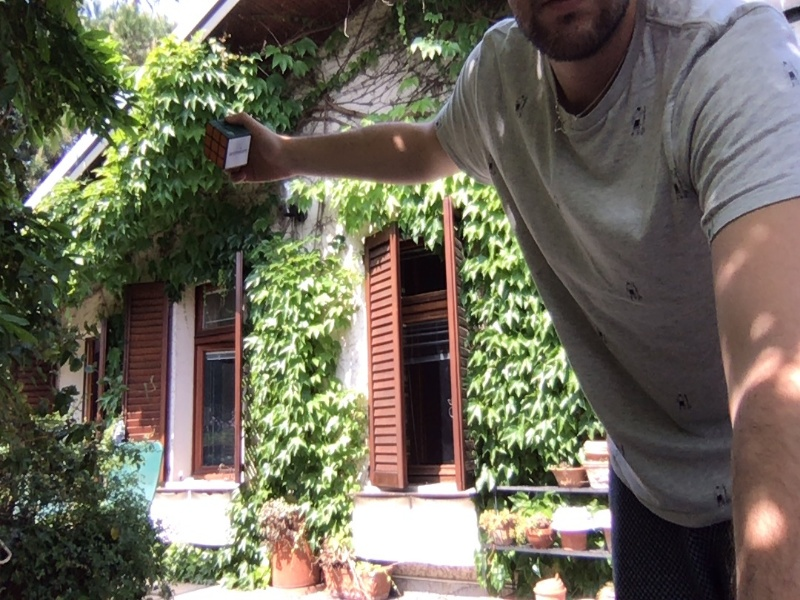rubik: (204, 118, 251, 171)
